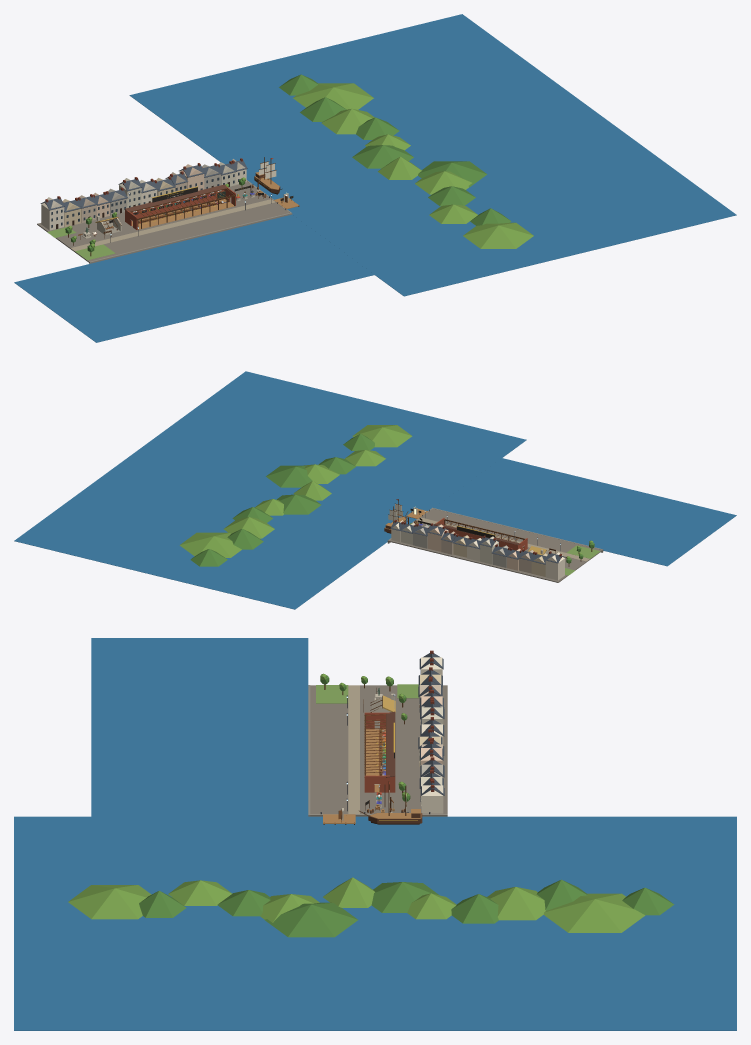
The model's file is pin-factory.glb.
3 renders of one model, top to bottom at view 1: azimuth 30°, elevation 25°; view 2: azimuth 150°, elevation 25°; view 3: azimuth 270°, elevation 25°, orthographic. The views are drawn at different scales.
Visible parts, largest first — view 1: MERGED_PF_water, MERGED_PF_leaf2, MERGED_PF_leaf, MERGED_PF_cobble, MERGED_PF_slate, MERGED_PF_plank, MERGED_PF_h1, MERGED_PF_road, MERGED_PF_brick, MERGED_PF_oak_dark, MERGED_PF_quay, MERGED_PF_h6 (+3 smaller); view 2: MERGED_PF_water, MERGED_PF_leaf2, MERGED_PF_leaf, MERGED_PF_cobble, MERGED_PF_slate, MERGED_PF_h1, MERGED_PF_h4, MERGED_PF_h6, MERGED_PF_h5, MERGED_PF_h2, MERGED_PF_h3; view 3: MERGED_PF_water, MERGED_PF_leaf2, MERGED_PF_cobble, MERGED_PF_leaf, MERGED_PF_slate, MERGED_PF_road, MERGED_PF_plank, MERGED_PF_h1, MERGED_PF_grass, MERGED_PF_brick, MERGED_PF_oak.
Part boxes in pixels (left/top/right/bottom): MERGED_PF_water: left=14, top=14, right=736, bottom=342; MERGED_PF_leaf2: left=68, top=83, right=533, bottom=248; MERGED_PF_leaf: left=65, top=74, right=511, bottom=252; MERGED_PF_cobble: left=37, top=181, right=289, bottom=262; MERGED_PF_slate: left=40, top=160, right=247, bottom=212; MERGED_PF_plank: left=132, top=172, right=299, bottom=229; MERGED_PF_h1: left=41, top=159, right=246, bottom=230; MERGED_PF_road: left=70, top=199, right=275, bottom=251; MERGED_PF_brick: left=125, top=186, right=235, bottom=229; MERGED_PF_oak_dark: left=80, top=157, right=299, bottom=239; MERGED_PF_quay: left=89, top=180, right=292, bottom=263; MERGED_PF_h6: left=119, top=162, right=236, bottom=207; MERGED_PF_water: left=14, top=371, right=736, bottom=609; MERGED_PF_leaf2: left=179, top=425, right=593, bottom=558; MERGED_PF_leaf: left=190, top=433, right=594, bottom=566; MERGED_PF_cobble: left=388, top=508, right=602, bottom=582; MERGED_PF_slate: left=390, top=521, right=565, bottom=564; MERGED_PF_h1: left=391, top=520, right=564, bottom=580; MERGED_PF_h4: left=427, top=524, right=520, bottom=570; MERGED_PF_h6: left=400, top=522, right=498, bottom=564; MERGED_PF_h5: left=413, top=525, right=508, bottom=567; MERGED_PF_h2: left=453, top=535, right=547, bottom=576; MERGED_PF_h3: left=441, top=531, right=533, bottom=573; MERGED_PF_water: left=14, top=638, right=736, bottom=1030; MERGED_PF_leaf2: left=68, top=673, right=645, bottom=932; MERGED_PF_cobble: left=310, top=685, right=447, bottom=816; MERGED_PF_leaf: left=139, top=675, right=674, bottom=937; MERGED_PF_slate: left=418, top=653, right=444, bottom=795; MERGED_PF_road: left=348, top=685, right=359, bottom=813; MERGED_PF_plank: left=323, top=729, right=421, bottom=823; MERGED_PF_h1: left=421, top=657, right=443, bottom=813; MERGED_PF_grass: left=316, top=684, right=418, bottom=703; MERGED_PF_brick: left=364, top=712, right=395, bottom=792; MERGED_PF_oak: left=338, top=714, right=405, bottom=818.
Bounding box in the file's own units: 257 × 14.87 × 200.
